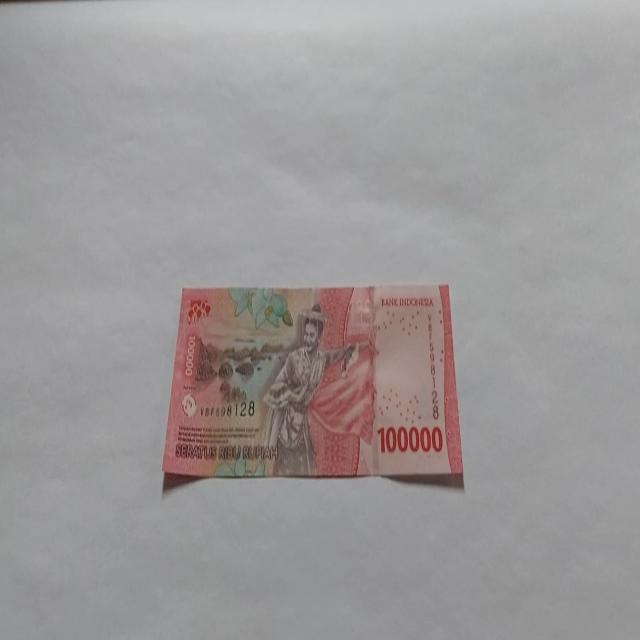seratus ribu rupiah: (160, 282, 464, 490), (257, 302, 358, 478)
